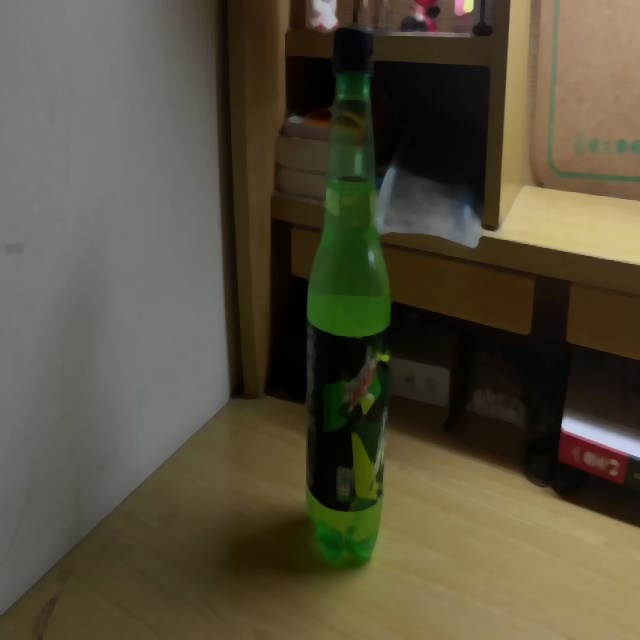Mountain-Dew: (305, 24, 392, 565)
